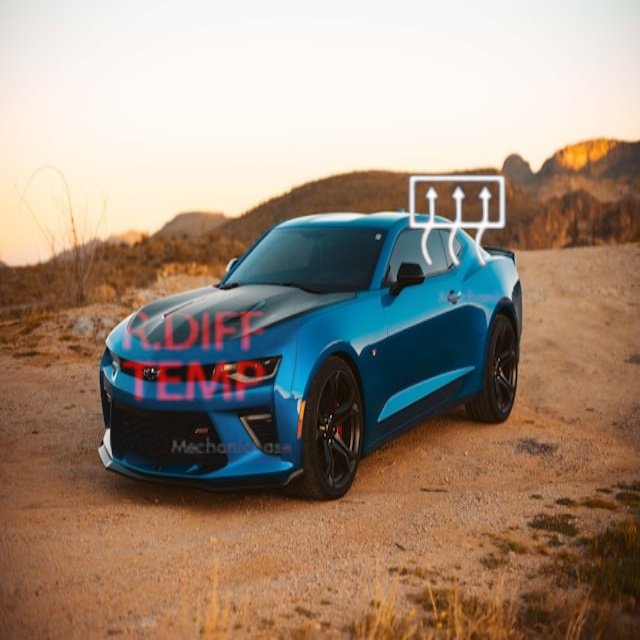symbol: (88, 252, 300, 464), (369, 134, 547, 312), (28, 26, 183, 181)
